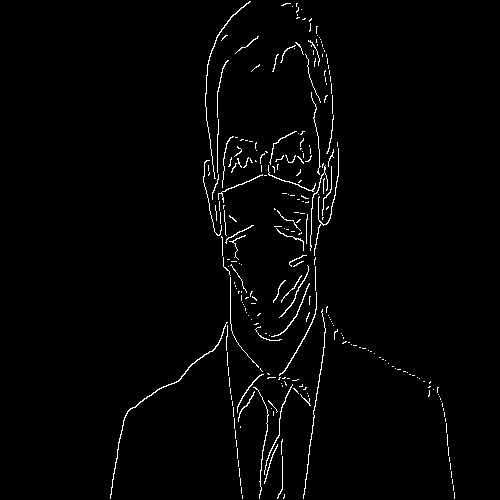mask: (218, 183, 313, 298)
